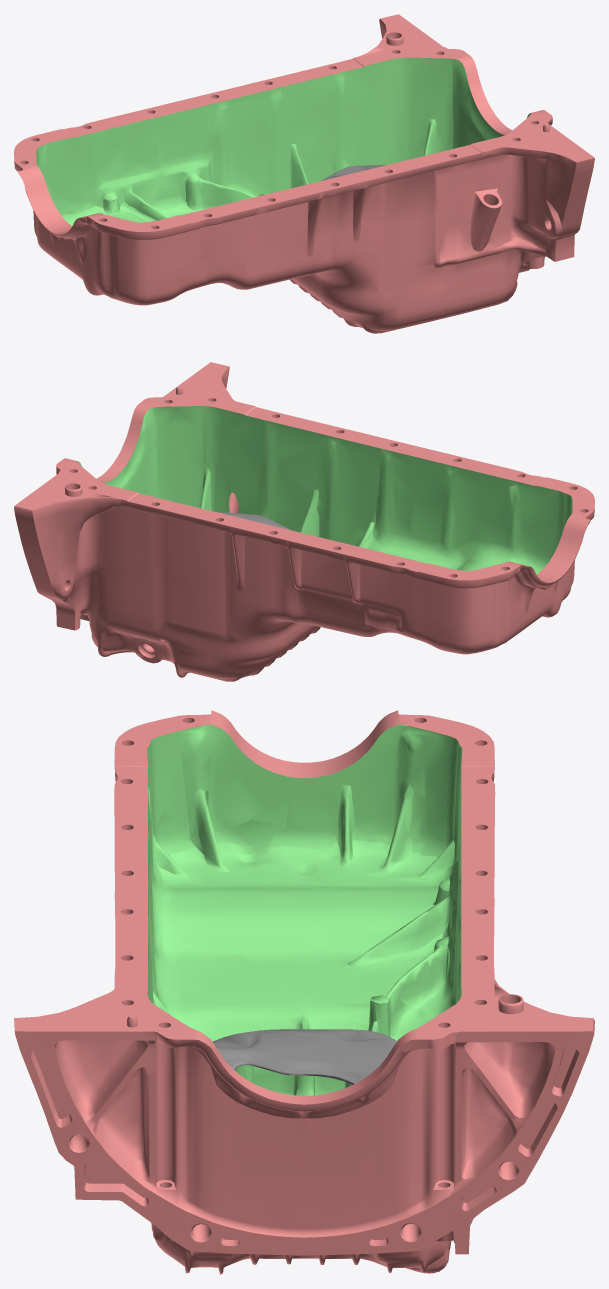
File: oil-pan.glb
The picture shows the model from 3 angles, top to bottom: view 1: azimuth 30°, elevation 25°; view 2: azimuth 150°, elevation 25°; view 3: azimuth 270°, elevation 25°; orthographic projection. The views are drawn at different scales.
Visible parts, largest first — view 1: Peugeot206_Flat; view 2: Peugeot206_Flat; view 3: Peugeot206_Flat.
Boxes of the visible parts, left/top/right/bottom form: Peugeot206_Flat: left=14, top=14, right=594, bottom=333; Peugeot206_Flat: left=14, top=362, right=594, bottom=681; Peugeot206_Flat: left=14, top=710, right=594, bottom=1274.
Bounding box in the file's own units: 0.4608 × 0.1813 × 0.3434.
